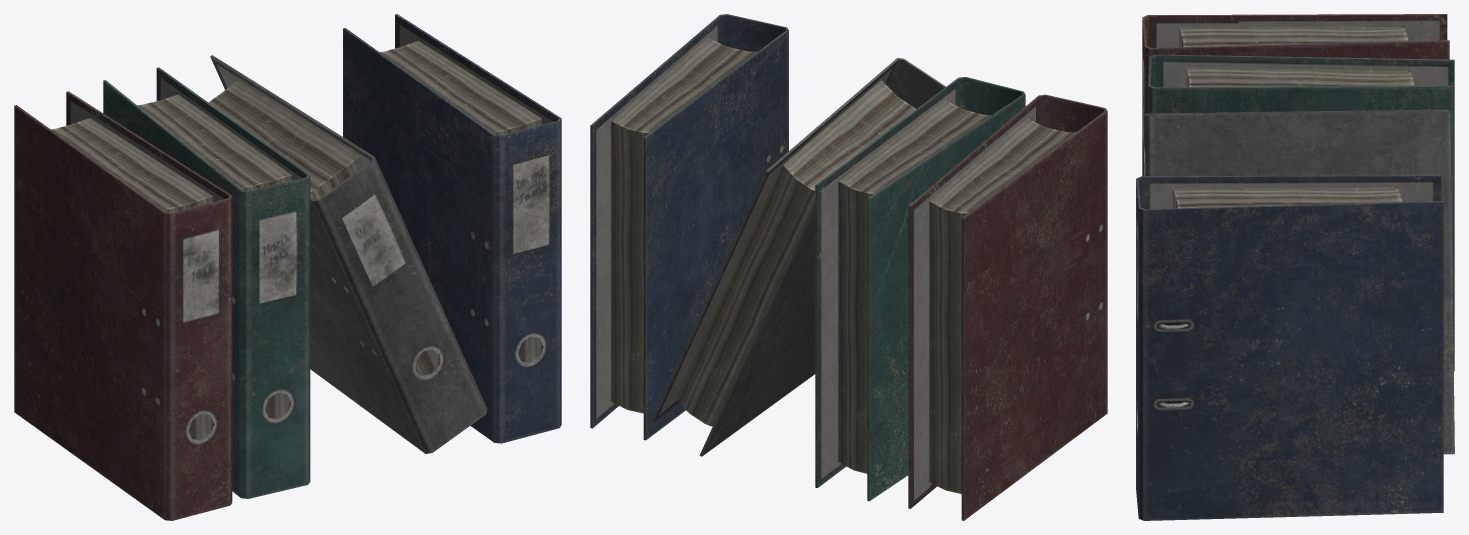
Rendered from FolderSet05.fbx.
3 renders of one model, left to right at view 1: azimuth 30°, elevation 25°; view 2: azimuth 150°, elevation 25°; view 3: azimuth 270°, elevation 25°, orthographic. The views are drawn at different scales.
Parts seen in each view (by area): view 1: FolderSet05; view 2: FolderSet05; view 3: FolderSet05.
Part boxes in pixels (x1,y1,x2,y2): FolderSet05: [14, 14, 561, 520]; FolderSet05: [590, 14, 1107, 520]; FolderSet05: [1136, 14, 1454, 520].
Size of the model in its own units: 43.8 by 32.38 by 29.77.
